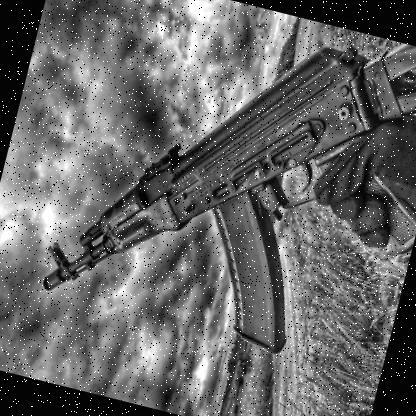rifle: (22, 0, 416, 393)
